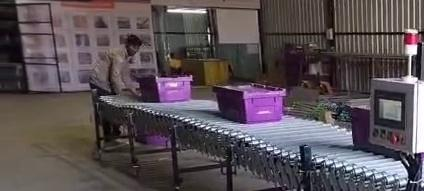box: (213, 84, 285, 123), (351, 106, 390, 155), (138, 76, 192, 102)
